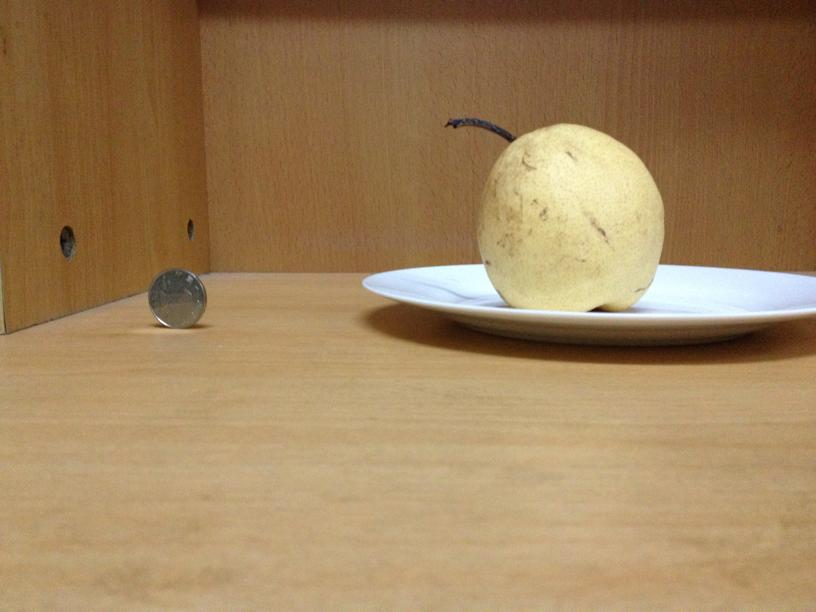coin: (147, 270, 206, 329)
pear: (448, 117, 666, 311)
